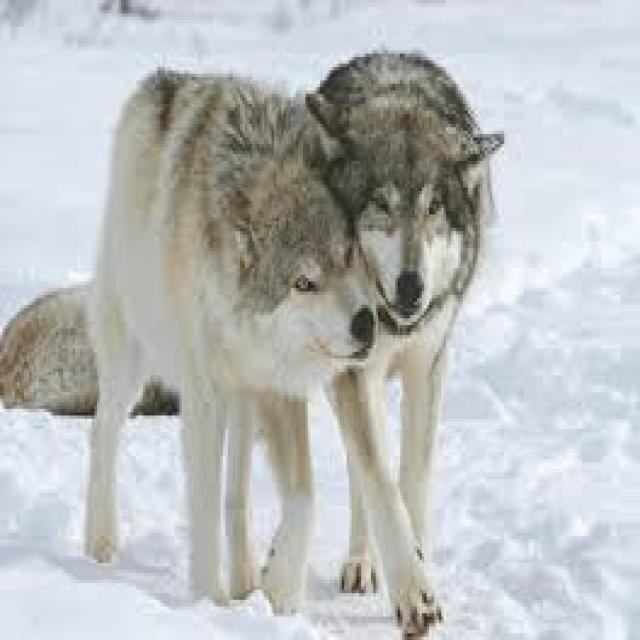wolf: (90, 50, 504, 637)
